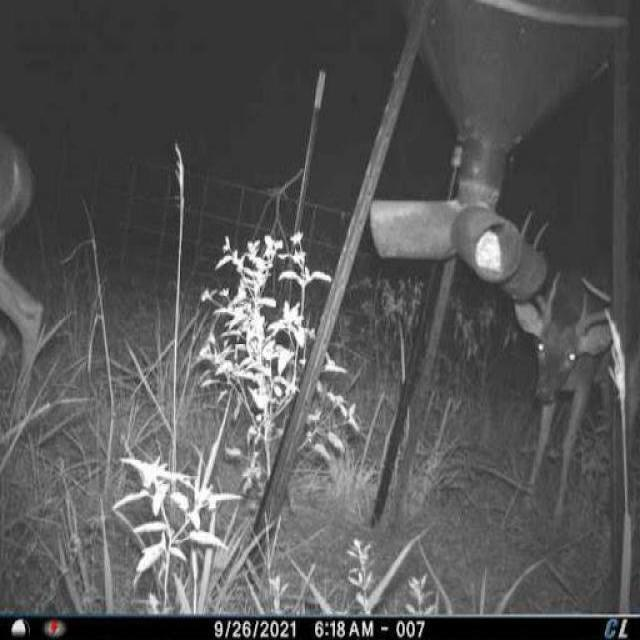deer: (497, 197, 640, 527), (0, 117, 48, 424)
